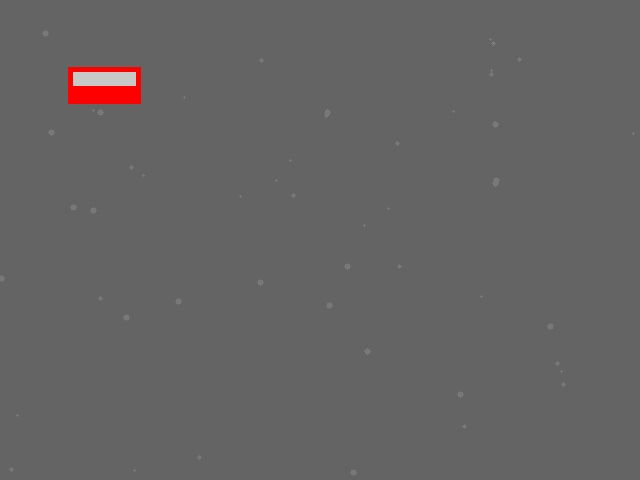car: (68, 67, 140, 103)
